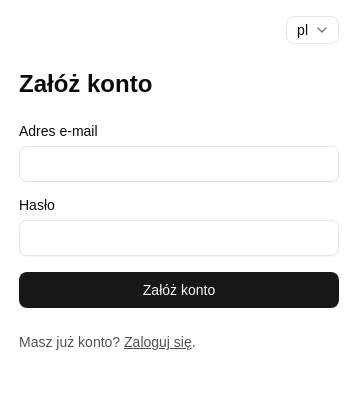
RegisterPage › refuses a password the backend would reject anyway
This screenshot has width=359, height=395.
Step 1. Type "reader@example.com" into the field labelled "Adres e-mail" → (179, 164), box [19, 146, 339, 182]
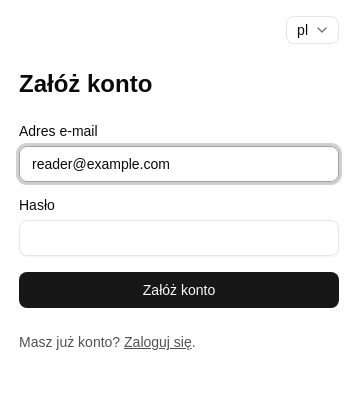
Step 2. Type "krotkie" into the password field labelled "Hasło" → (179, 238), box [19, 220, 339, 256]
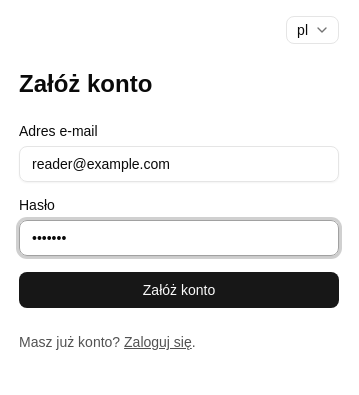
Step 3. Click the button "Załóż konto" → click(179, 290), box [19, 272, 339, 308]
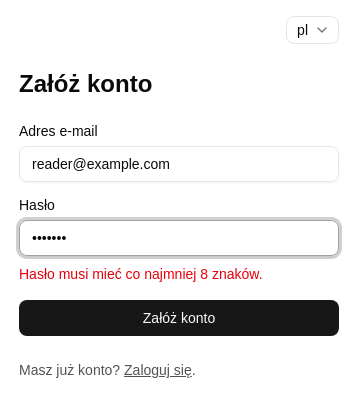
expect the text "Hasło musi mieć co najmniej 8 znaków." is shown: met, box [19, 266, 262, 282]
